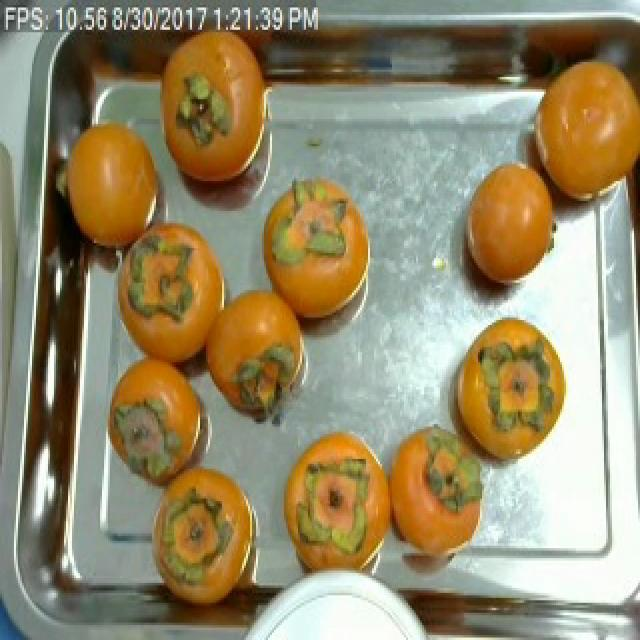Fruit: (160, 10, 314, 218), (248, 159, 382, 347), (268, 419, 404, 593), (136, 452, 272, 625), (518, 45, 640, 228), (100, 342, 234, 506), (442, 308, 574, 471), (190, 270, 312, 437), (452, 148, 566, 302), (56, 104, 162, 268)
